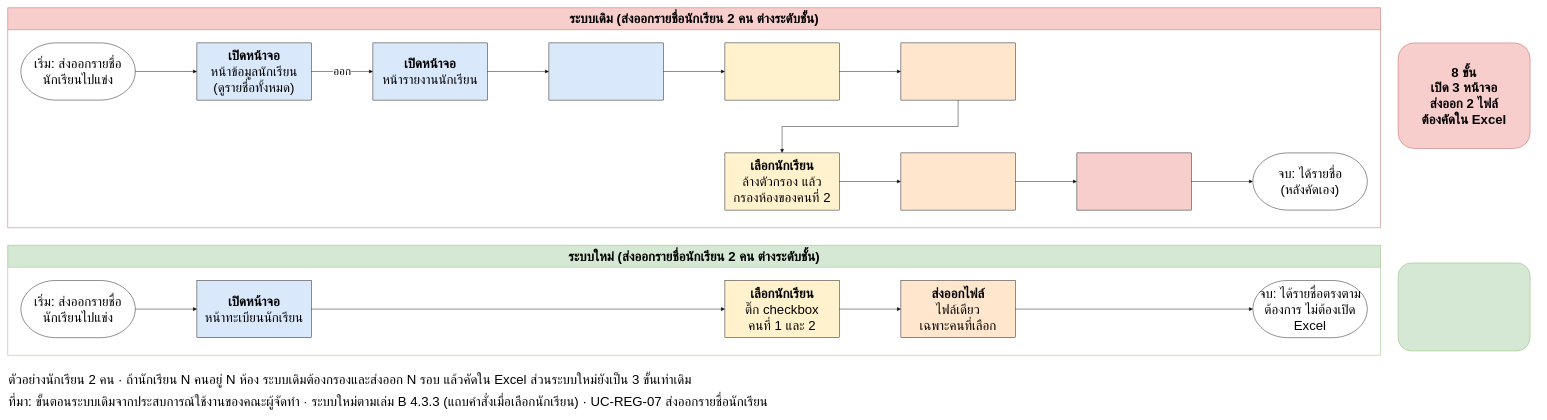
Image size: 1547x420. Some labels were removed from this diagram. The centre of each missing label's shape, as x and y in pixels:
3 ขั้น เปิด 1 หน้าจอ ส่งออก 1 ไฟล์ ไม่ต้องใช้ Excel: [1464,306]
คัดรายชื่อใน Excel เปิด 2 ไฟล์ ดึงเฉพาะ คนที่ต้องการเอง: [1133,181]
ส่งออกไฟล์ ไฟล์ที่ 1 (ได้ทั้งห้อง): [957,71]
ส่งออกไฟล์ ไฟล์ที่ 2 (ได้ทั้งห้อง): [957,181]
เปิดหน้าจอ หน้ารายชื่อนักเรียน: [605,71]
เลือกนักเรียน กรองตามห้องของคนที่ 1 (เลือกรายคนไม่ได้): [781,71]
